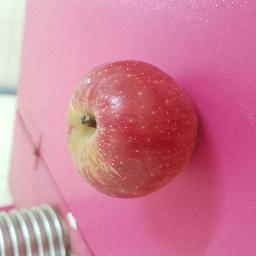Good_apple: (66, 60, 202, 198)
